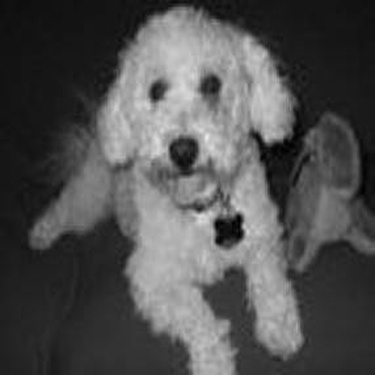dog: (21, 2, 309, 371), (273, 106, 370, 271)
